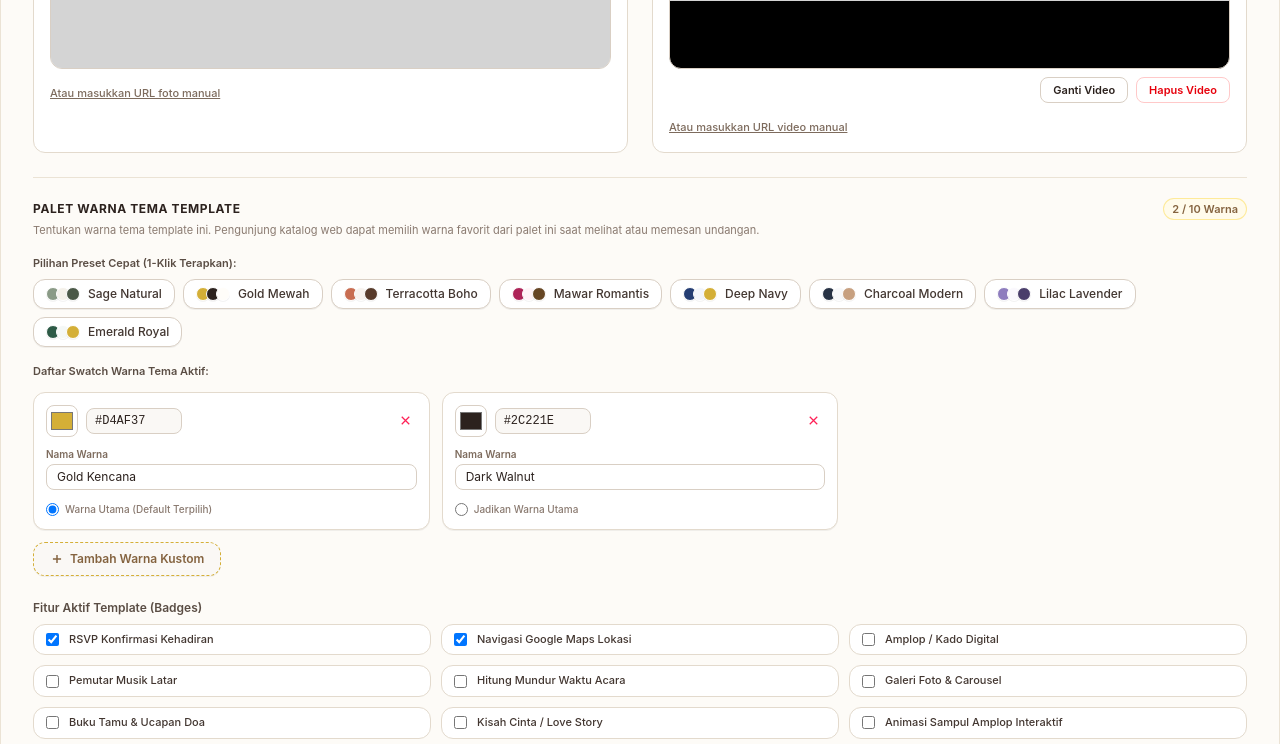
Scenario: TemplateMetadataForm Color Palette Management › applies a preset palette when clicking a preset button
The width and height of the screenshot is (1280, 744).
(page scrolled)
Click the button "Terracotta Boho". click: [411, 294]
box: [330,279,491,309]
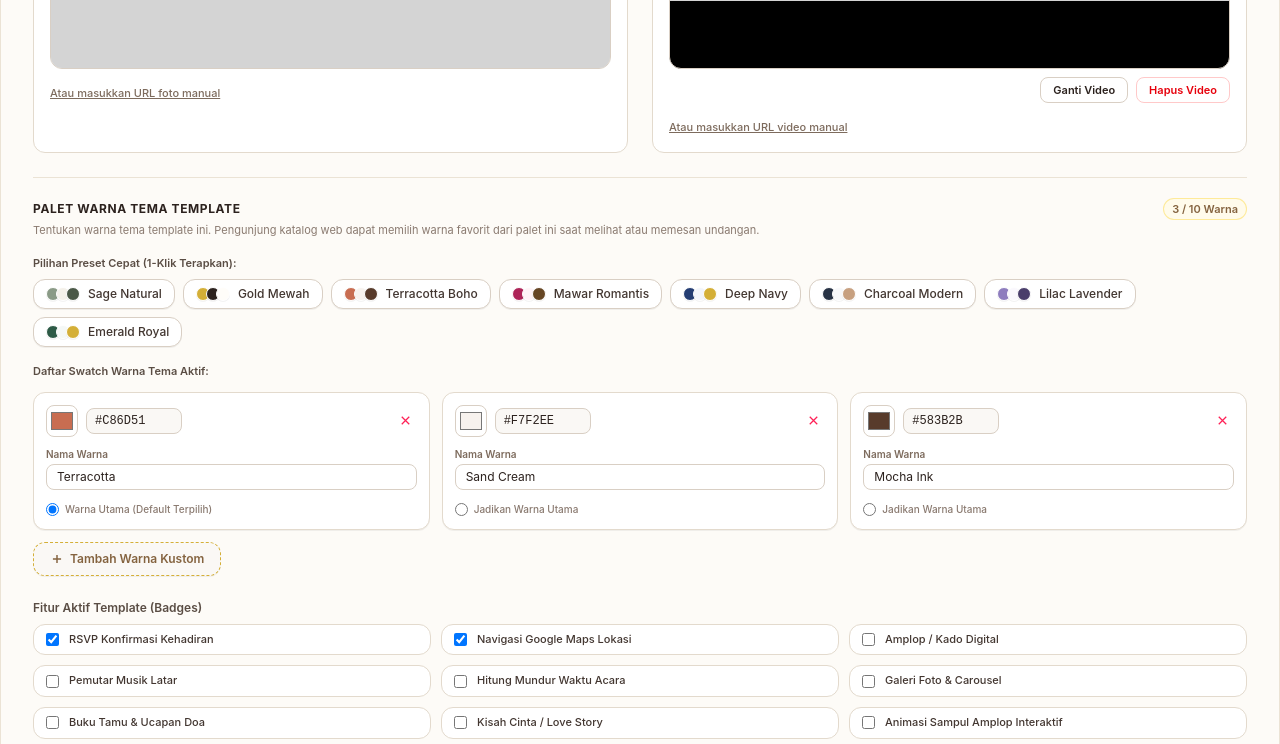
Expected: the 4th field showing "Terracotta" is shown, [46,464,417,490]
Expected: the 5th field showing "Sand Cream" is shown, [455,464,825,490]
